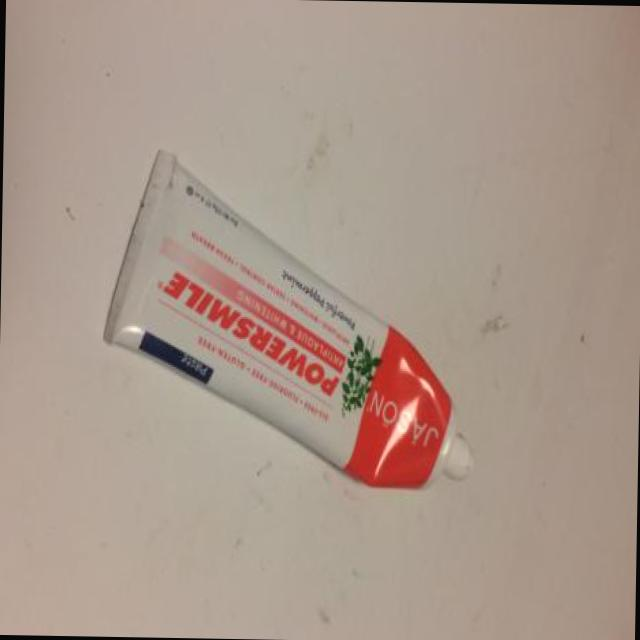hop_nhua: (101, 147, 472, 490)
